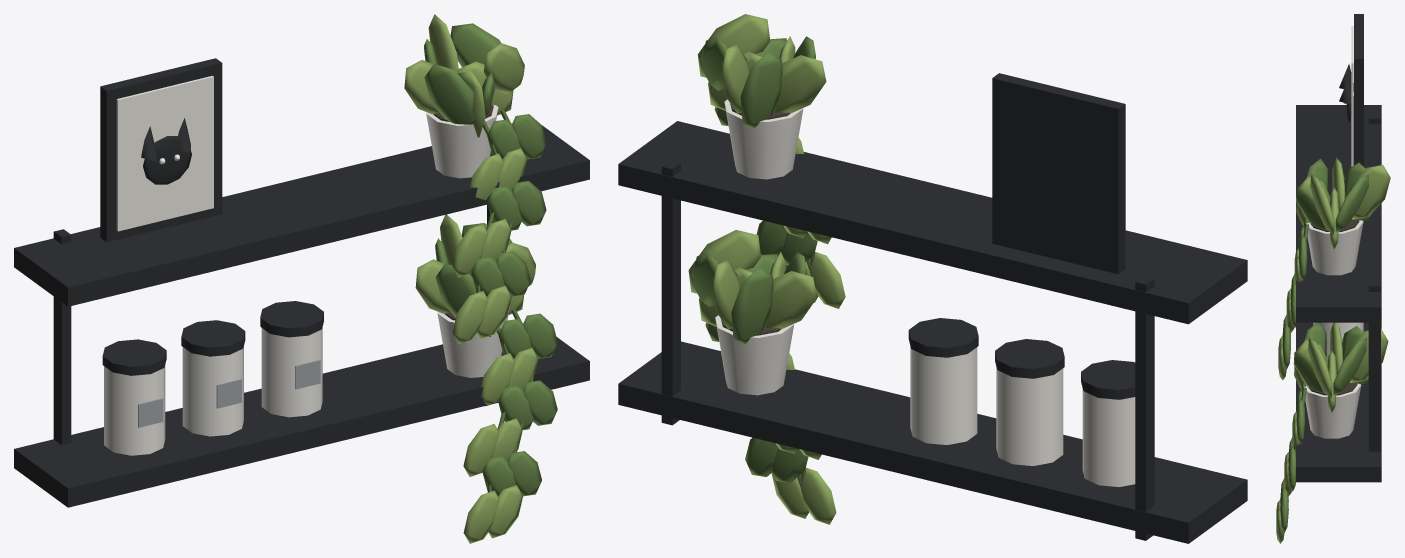
Rendered from kitchen_ref_shelves.glb.
3 views of the same model, side by side, from view 1: azimuth 30°, elevation 25°; view 2: azimuth 150°, elevation 25°; view 3: azimuth 270°, elevation 25° (orthographic). The views are drawn at different scales.
Bounding box in the file's own units: 2.12 × 1.93 × 0.5078.
